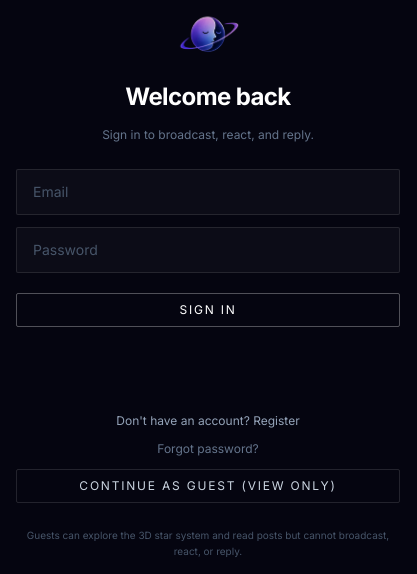
Test: Bug Condition: AuthScreen raw error on unconfirmed email (Bug #3) › should show friendly message for "Email not confirmed" error
Note: Fill in the form
Type "test@example.com" into the field with placeholder "Email".
click(208, 192); type("test@example.com")  # box [16, 168, 400, 214]
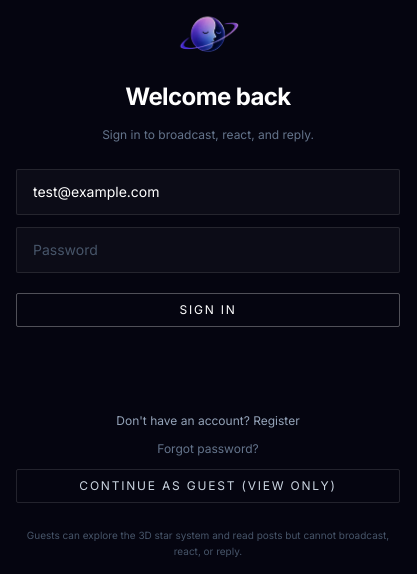
Type "password123" into the password field with placeholder "Password".
click(208, 250); type("password123")  # box [16, 226, 400, 272]
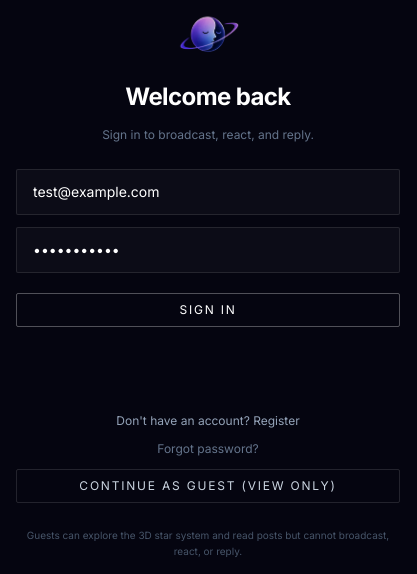
Click the button "Sign In".
click(208, 310)  # box [16, 292, 400, 326]
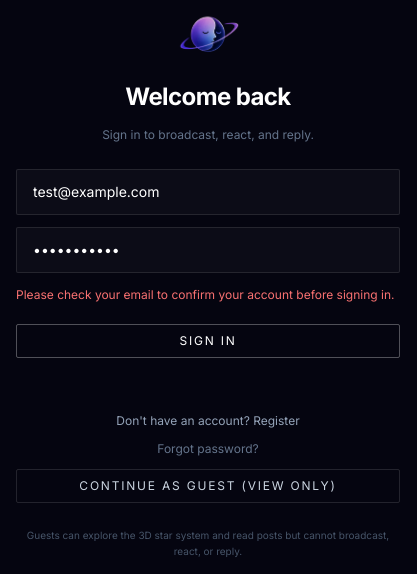
Expected: the text "check your email to confirm" is shown, [16, 286, 394, 302]
